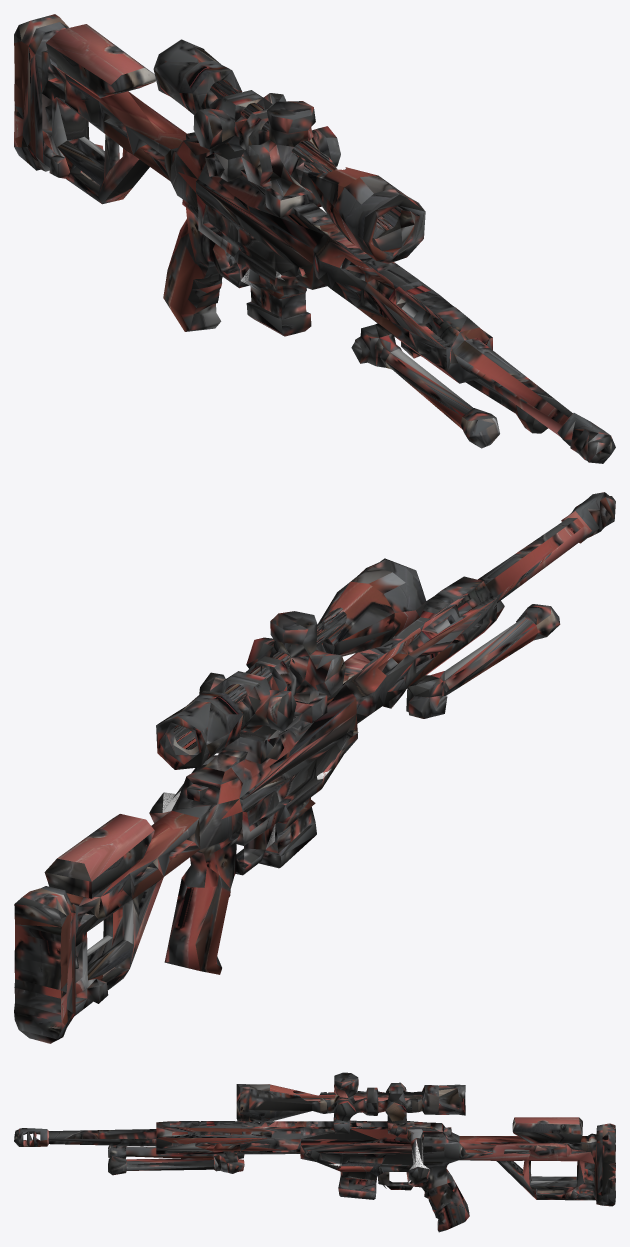
3 views of the same model, one above another, from view 1: azimuth 30°, elevation 25°; view 2: azimuth 150°, elevation 25°; view 3: azimuth 270°, elevation 25° (orthographic). The views are drawn at different scales.
Parts seen in each view (by area): view 1: Body, Magazine; view 2: Body, Magazine; view 3: Body, Magazine.
Part boxes in pixels (bbox=[...]): Body: bbox=[14, 14, 615, 463]; Magazine: bbox=[234, 245, 311, 336]; Body: bbox=[14, 492, 615, 1043]; Magazine: bbox=[259, 772, 325, 868]; Body: bbox=[14, 1072, 615, 1232]; Magazine: bbox=[333, 1163, 385, 1199].
Size of the model in its own units: 0.2207 by 0.5131 by 1.85.
